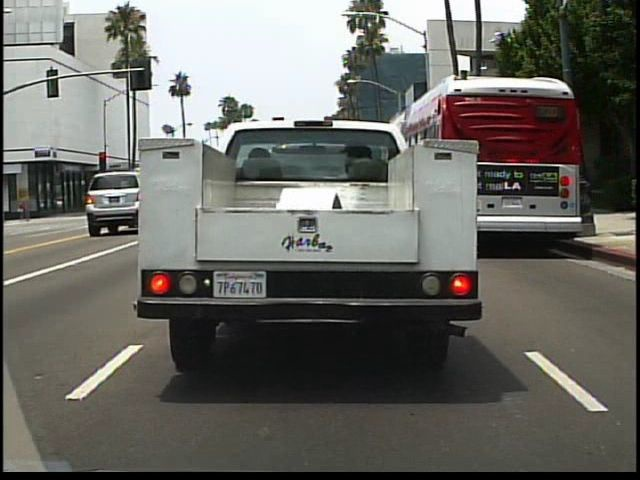person: (15, 194, 30, 222)
